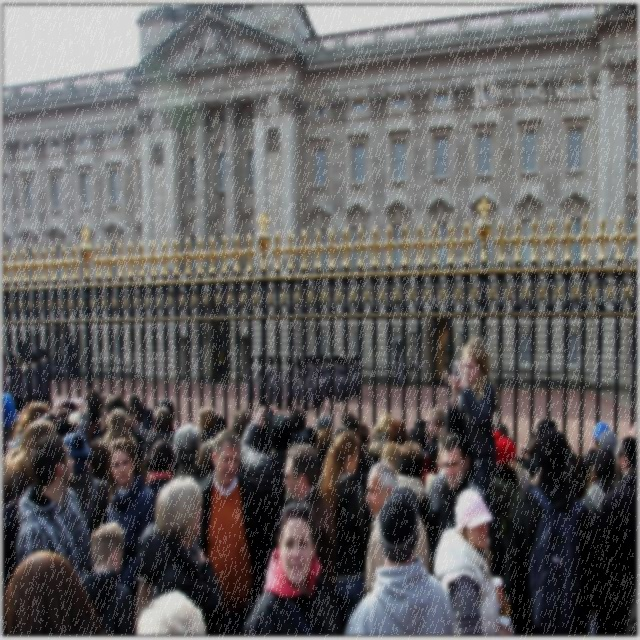pessoa: (2, 388, 252, 498), (503, 426, 602, 638), (340, 482, 458, 639), (190, 426, 274, 638), (239, 496, 345, 639), (135, 470, 225, 628), (15, 432, 94, 587), (318, 430, 375, 632), (290, 406, 446, 474), (433, 488, 502, 638), (444, 333, 498, 508), (239, 403, 295, 570), (363, 458, 431, 595), (282, 440, 340, 598), (597, 433, 639, 639), (2, 546, 94, 636), (104, 438, 158, 586), (76, 518, 138, 638), (514, 414, 598, 491), (431, 432, 487, 540), (392, 440, 434, 577), (490, 428, 527, 580), (61, 432, 108, 538), (2, 331, 78, 389), (133, 586, 208, 638), (579, 446, 618, 526), (308, 352, 361, 409), (182, 28, 242, 70), (1, 496, 18, 548), (243, 354, 256, 416), (626, 576, 638, 638), (300, 352, 311, 412), (282, 353, 294, 408), (273, 352, 284, 410), (292, 354, 303, 408), (597, 420, 619, 446), (266, 354, 276, 406), (256, 353, 263, 409), (212, 346, 224, 372), (395, 353, 402, 388), (628, 419, 638, 439)
